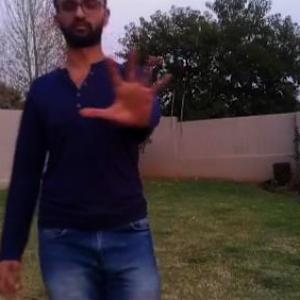follow_hand: (81, 30, 182, 132)
